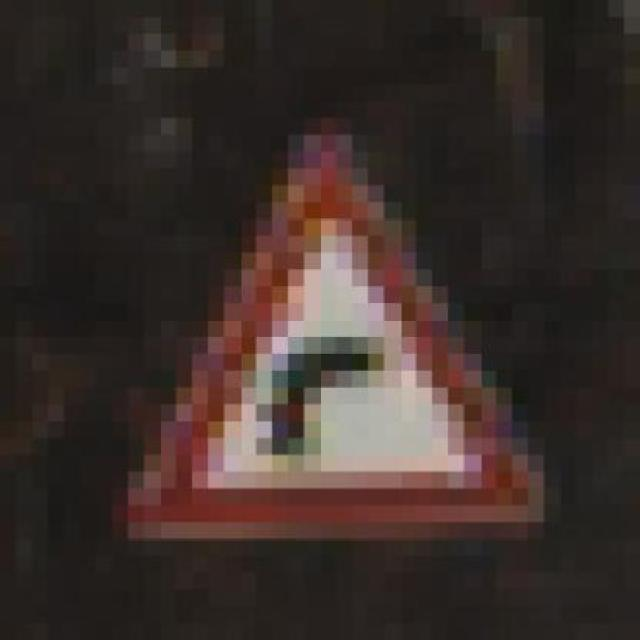Dangerous Rright Curve Ahead: (80, 101, 560, 556)
